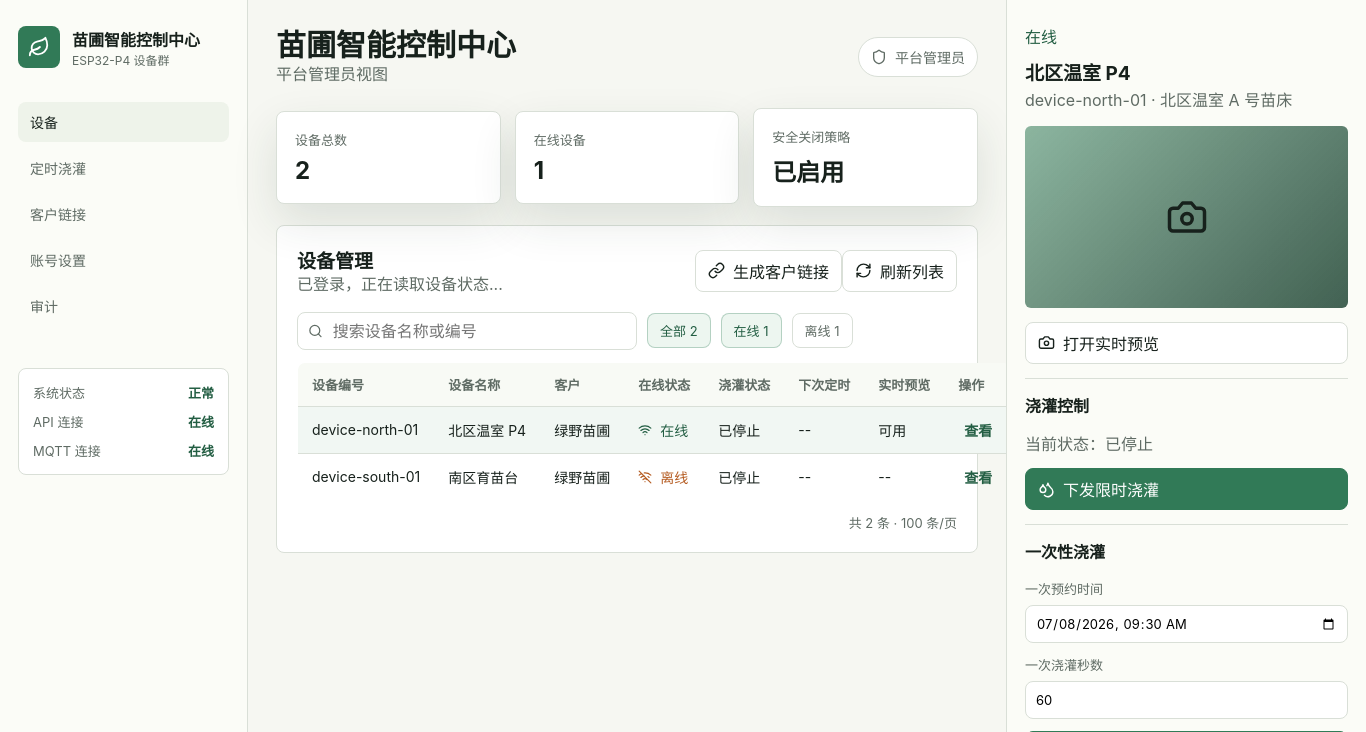
DashboardShell device management › updates account information from the account settings page
Click the link "账号设置" at (58, 260), box [30,252,86,269]
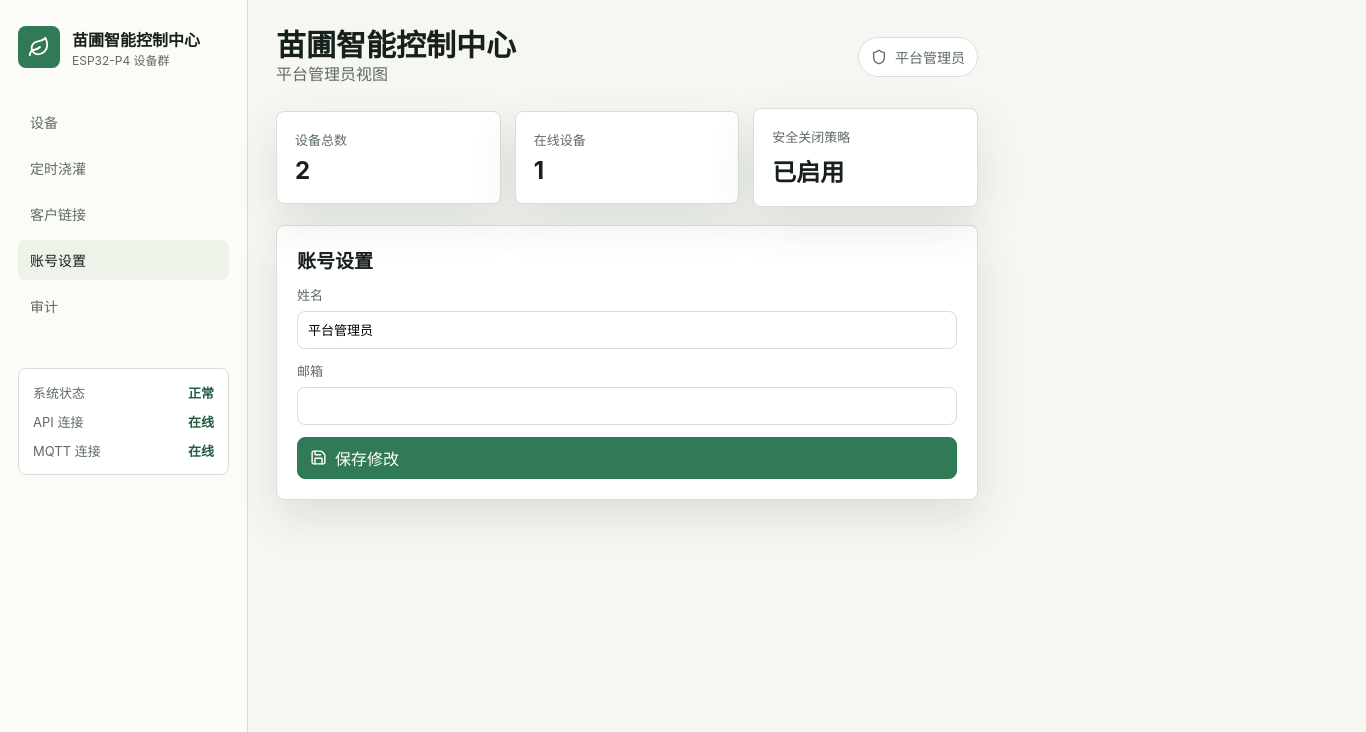
Replace the text in the field labelled "姓名" with "管理员" at (627, 330), box [297,311,957,349]
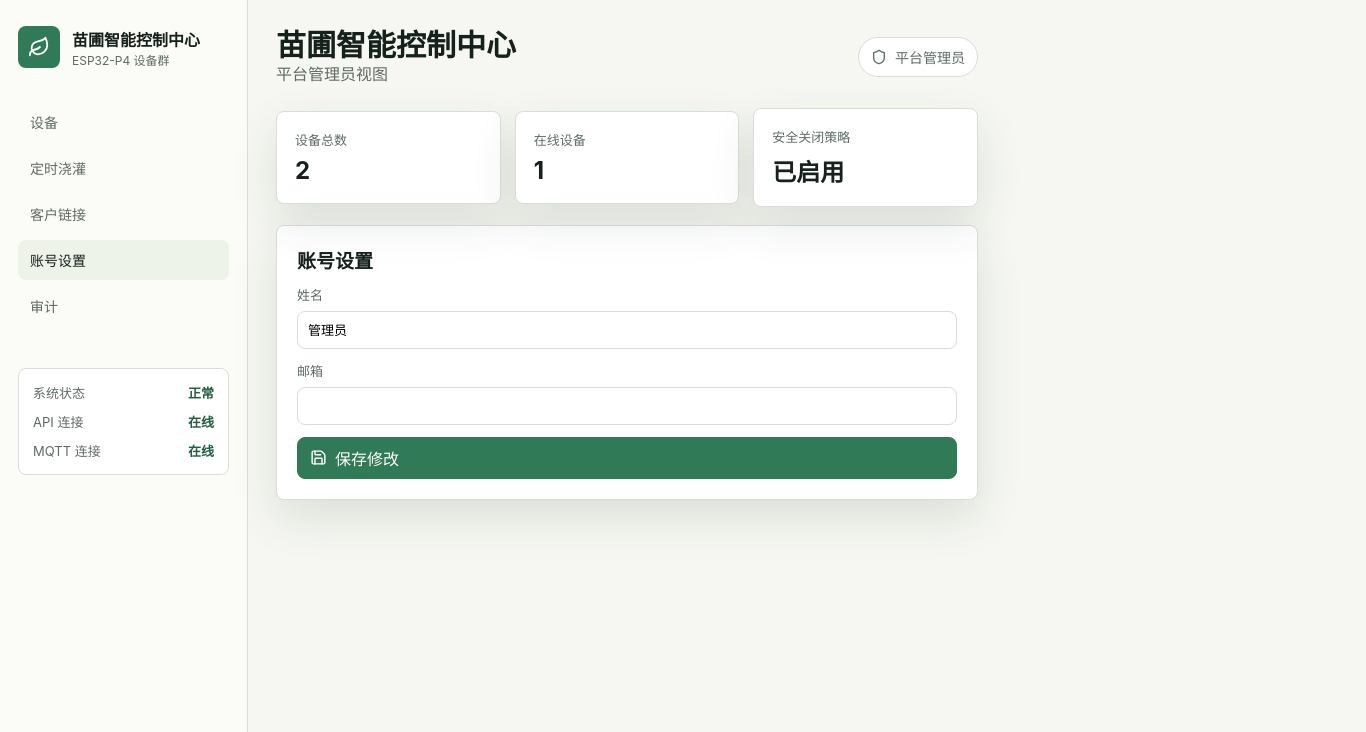
Click the button "保存修改" at (367, 459), box [297,437,957,479]
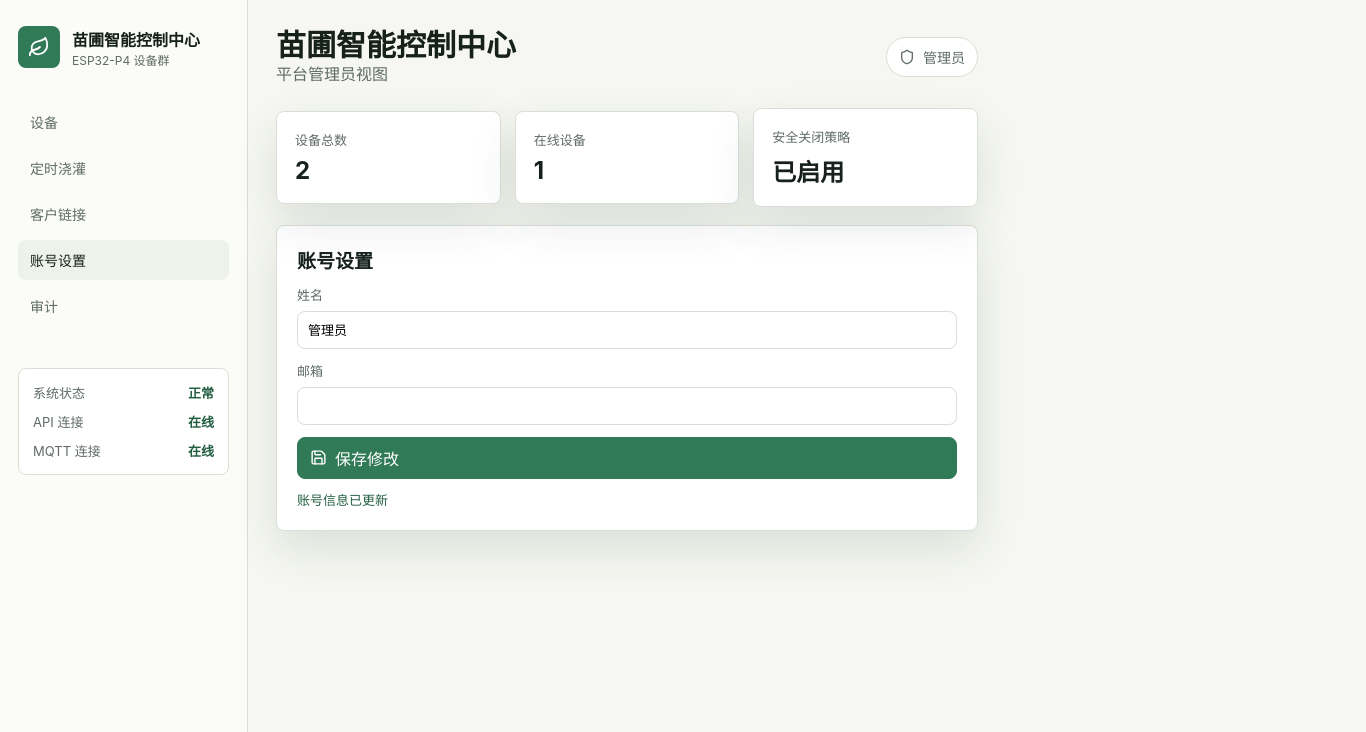
Check: the text "账号信息已更新" is shown, box [297,492,388,508]
